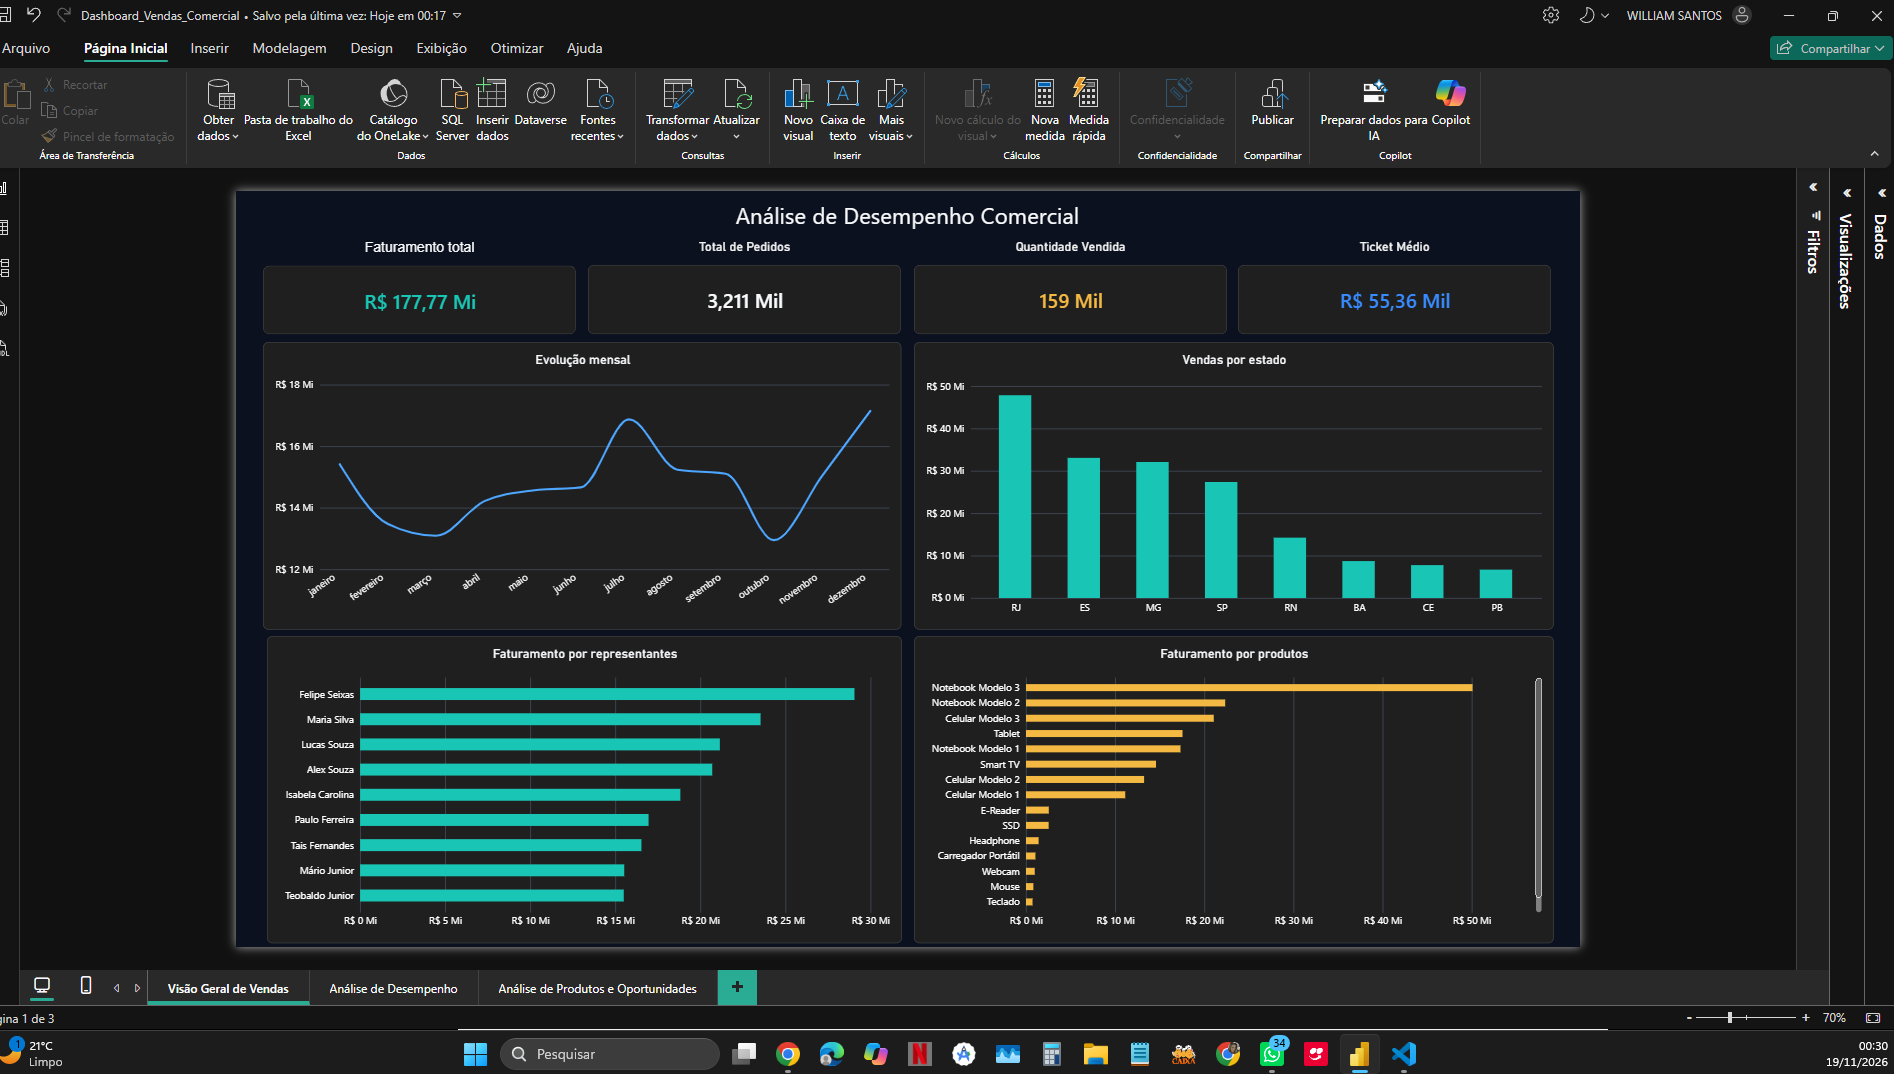

What the dashboard file says about the page in this screenshot:
{"tool":"powerbi","page":{"name":" Visão Geral de Vendas","canvas":[1920,1080],"ordinal":0},"visuals":[{"type":"cardVisual","title":"Faturamento total","fields":{"Data":["Tabela de Vendas.Faturamento Total"]},"box":[38.6,67.9,447.4,136.7],"z":0},{"type":"cardVisual","title":"Total de Pedidos","fields":{"Data":["Tabela de Vendas.Total de Pedidos"]},"box":[503.3,68.3,447.4,136.7],"z":1000},{"type":"cardVisual","title":"Quantidade Vendida","fields":{"Data":["Tabela de Vendas.Quantidade Vendida"]},"box":[968.3,68.3,447.4,136.7],"z":2000},{"type":"cardVisual","title":"Ticket Médio","fields":{"Data":["Tabela de Vendas.Ticket Médio"]},"box":[1431.7,68.3,447.4,136.7],"z":3000},{"type":"lineChart","title":"Evolução mensal","fields":{"Category":["Calendario.Mes","Calendario.Ano"],"Y":["Tabela de Vendas.Faturamento Total"]},"box":[38.6,215.7,912.1,410.7],"z":4000},{"type":"barChart","title":"Faturamento por representantes","fields":{"Category":["Tabela de Vendas.Nome_Representante"],"Y":["Tabela de Vendas.Faturamento Total"]},"box":[43.6,635.7,907.1,438.6],"z":5000},{"type":"clusteredBarChart","title":"Faturamento por produtos","fields":{"Category":["Tabela de Vendas.Nome_Produto"],"Y":["Tabela de Vendas.Faturamento Total"]},"box":[967.9,635.7,913.6,438.6],"z":6000},{"type":"lineClusteredColumnComboChart","title":"Vendas por estado","fields":{"Category":["Tabela de Vendas.UF_Padronizada"],"Y":["Tabela de Vendas.Faturamento Total"]},"box":[967.9,215.7,913.6,410.7],"z":7000},{"type":"textbox","box":[38.6,10.8,1841.3,49.4],"z":8000}]}

Visuals, with their boxes on the page's 1920x1080 design canvas (x1, y1, x2, y2). These are canvas units, not pixel positions in the 1894x1074 screenshot, which may show the page scaled, cropped or inside an application window:
"Faturamento total" cardVisual: 39, 68, 486, 205
"Total de Pedidos" cardVisual: 503, 68, 951, 205
"Quantidade Vendida" cardVisual: 968, 68, 1416, 205
"Ticket Médio" cardVisual: 1432, 68, 1879, 205
"Evolução mensal" lineChart: 39, 216, 951, 626
"Faturamento por representantes" barChart: 44, 636, 951, 1074
"Faturamento por produtos" clusteredBarChart: 968, 636, 1882, 1074
"Vendas por estado" lineClusteredColumnComboChart: 968, 216, 1882, 626
textbox: 39, 11, 1880, 60
